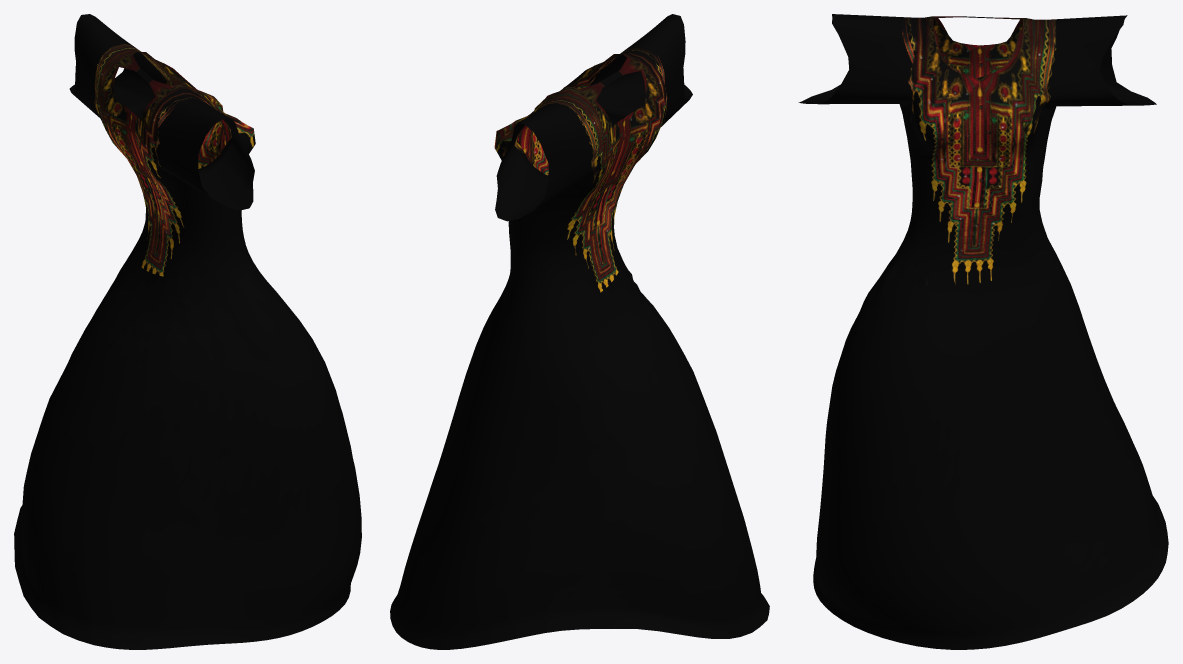
Rendered from thedress.shadah.fbx.
3 views of the same model, side by side, from view 1: azimuth 30°, elevation 25°; view 2: azimuth 150°, elevation 25°; view 3: azimuth 270°, elevation 25° (orthographic). The views are drawn at different scales.
Visible parts, largest first — view 1: tut.001; view 2: tut.001; view 3: tut.001.
Part boxes in pixels (box(x1,y1,x2,y2)): tut.001: box(14, 14, 361, 649); tut.001: box(390, 14, 769, 649); tut.001: box(798, 14, 1168, 649).
Bounding box in the file's own units: 401 × 668 × 409.
